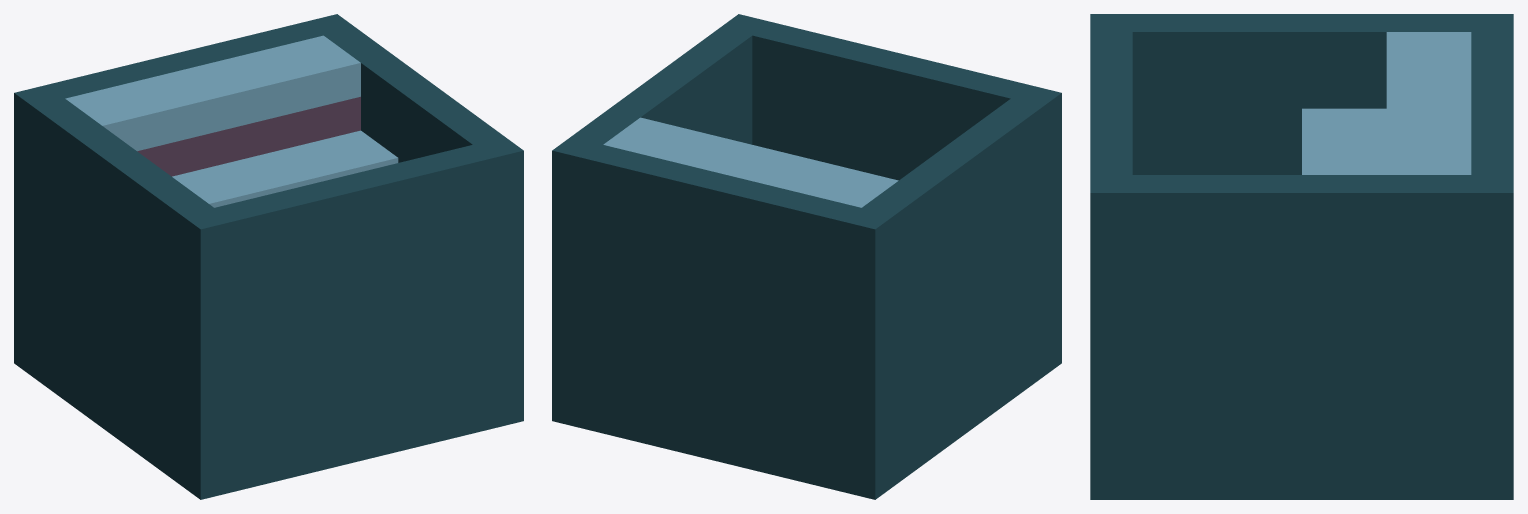
The model's file is Stairs_Exit.dae.
3 views of the same model, side by side, from view 1: azimuth 30°, elevation 25°; view 2: azimuth 150°, elevation 25°; view 3: azimuth 270°, elevation 25° (orthographic). The views are drawn at different scales.
Parts seen in each view (by area): view 1: Stairs_Exit; view 2: Stairs_Exit; view 3: Stairs_Exit.
Boxes of the visible parts, <box> form: Stairs_Exit: <box>14,14,523,499</box>; Stairs_Exit: <box>552,14,1061,499</box>; Stairs_Exit: <box>1090,14,1513,499</box>.
Size of the model in its own units: 1.25 by 1 by 1.25.
